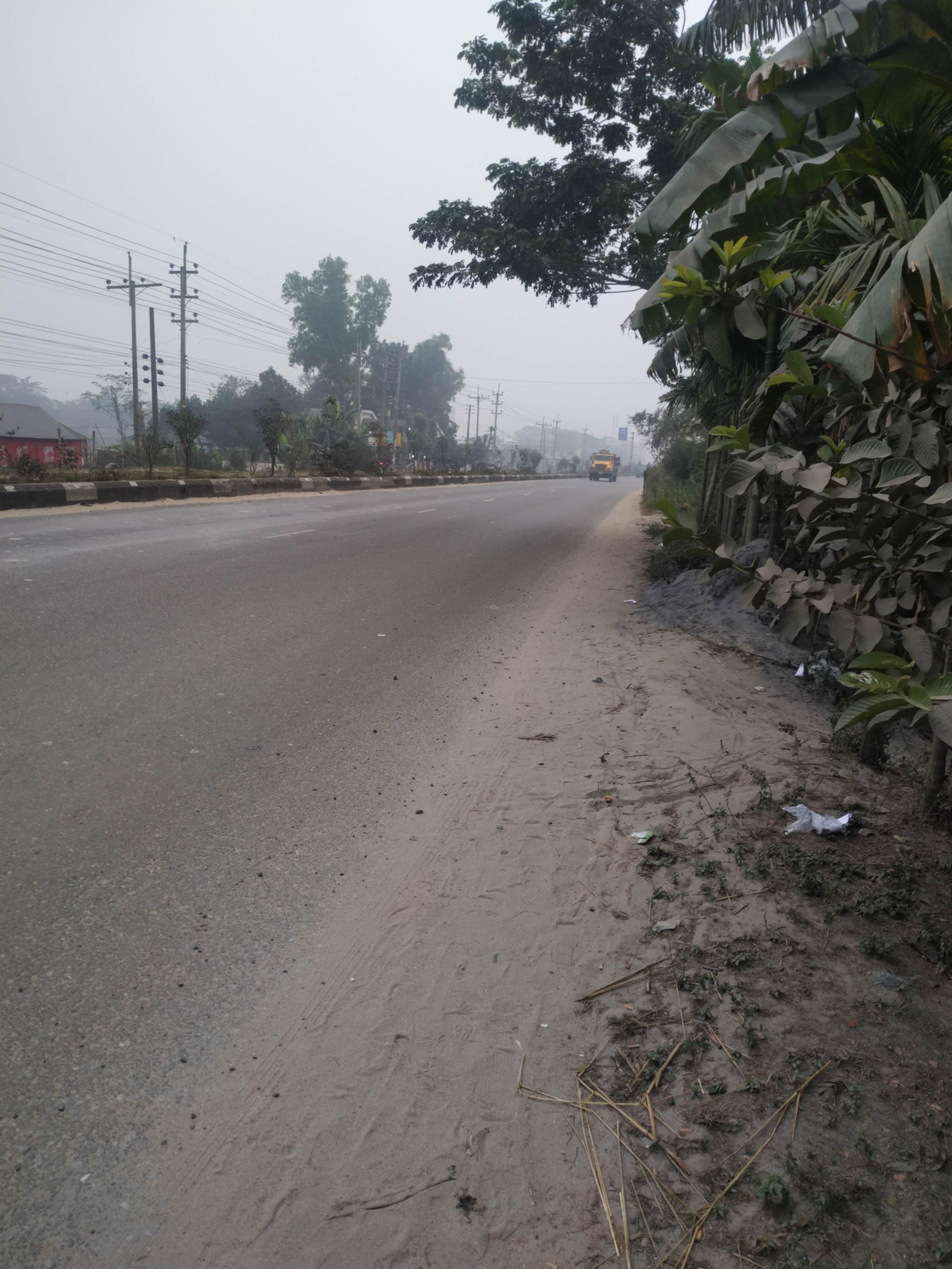Truck: (579, 435, 629, 492)
